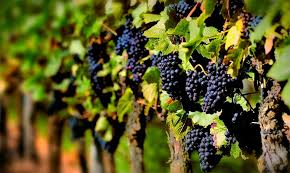Black grapes: (203, 55, 237, 115), (154, 46, 193, 94)
